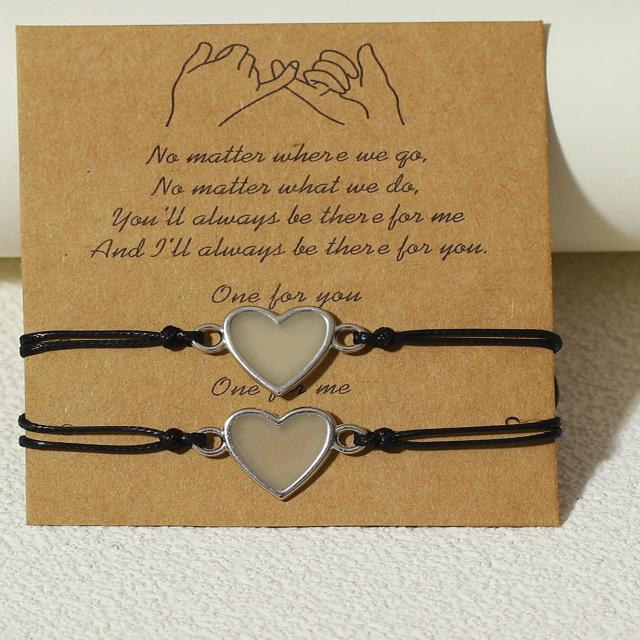bracelet: (0, 268, 640, 546)
